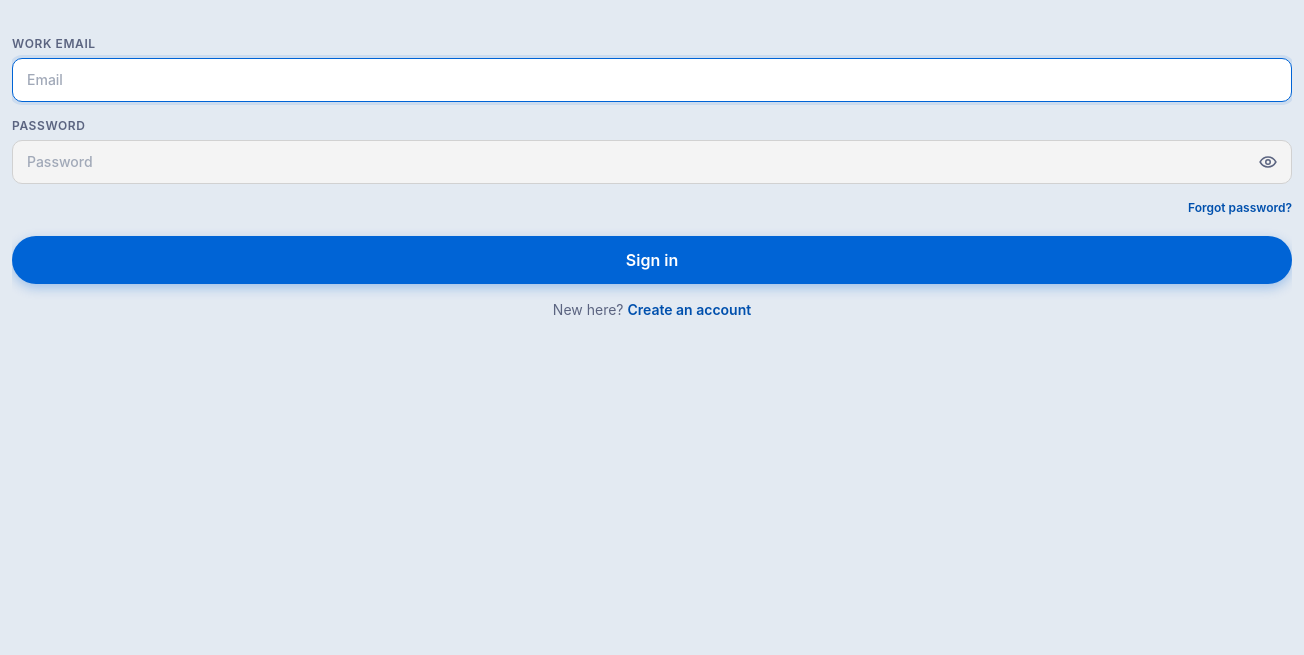
Scenario: EmployerAuthForm — signup copy › names "Create password" in the missing-fields summary
Click the button "Create an account". click: (689,310)
box: [627,300,751,320]
(page scrolled)
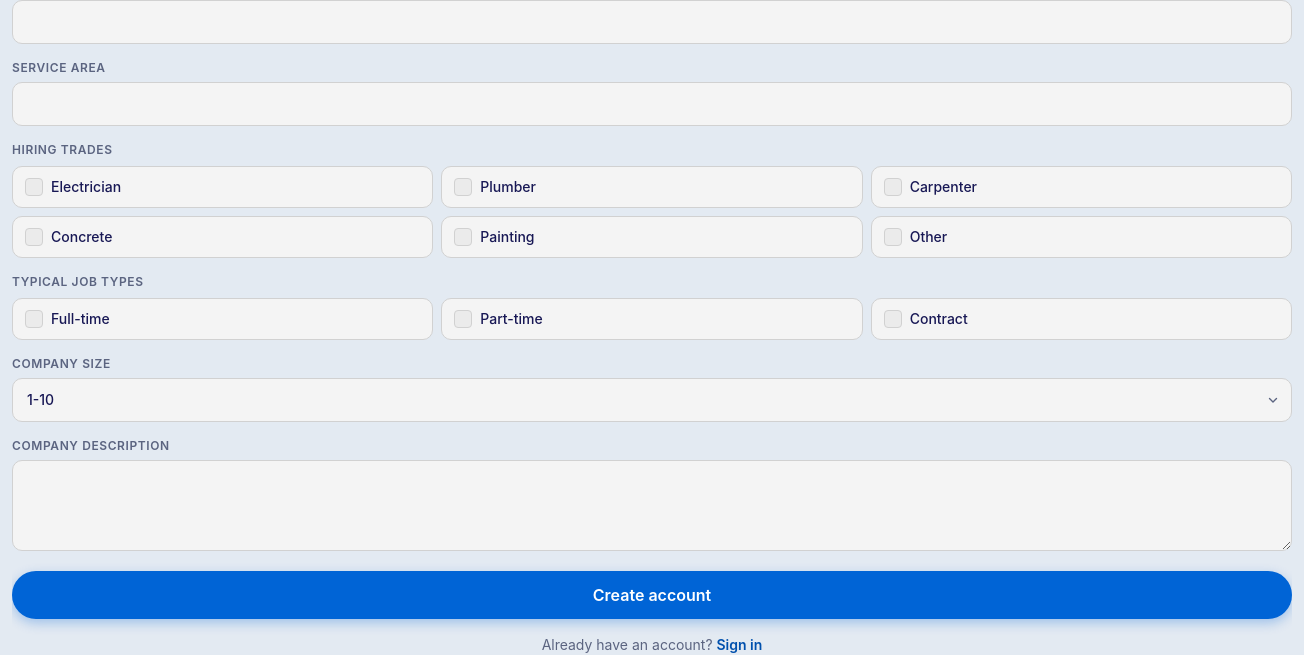
Click the button "Create account". click: (652,594)
box: [12,570,1292,618]
(page scrolled)
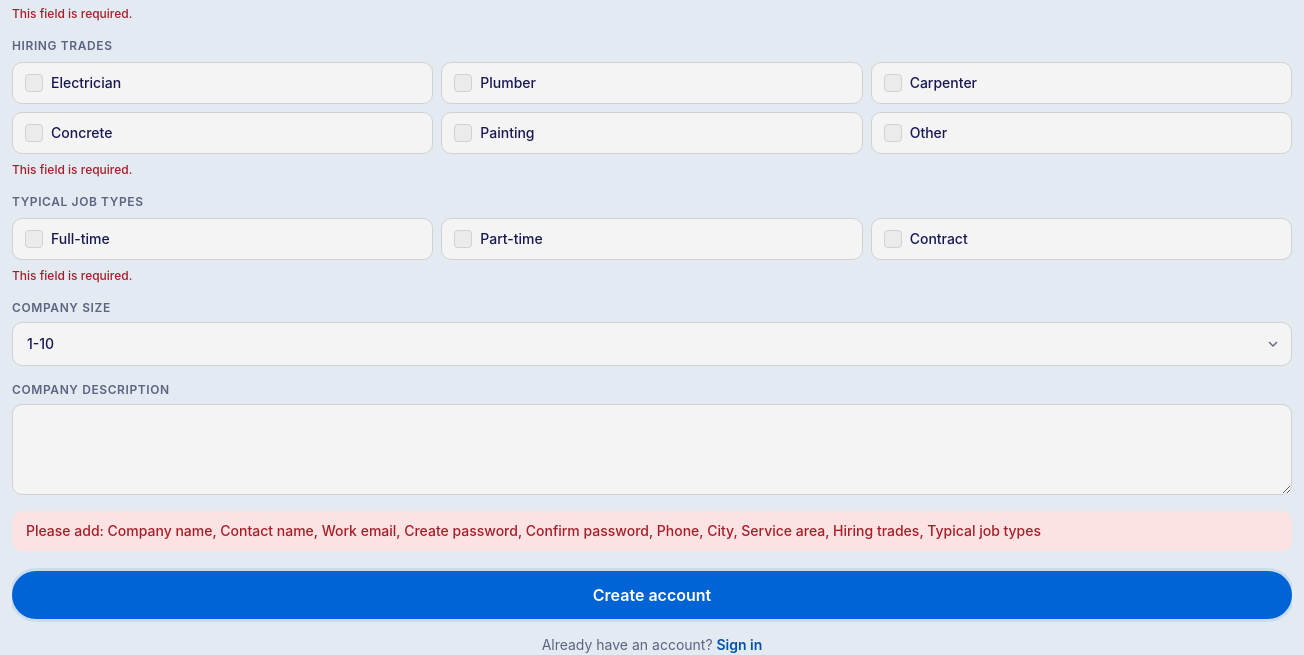
Expected: the message shows "Create password", [26,522,1041,538]
